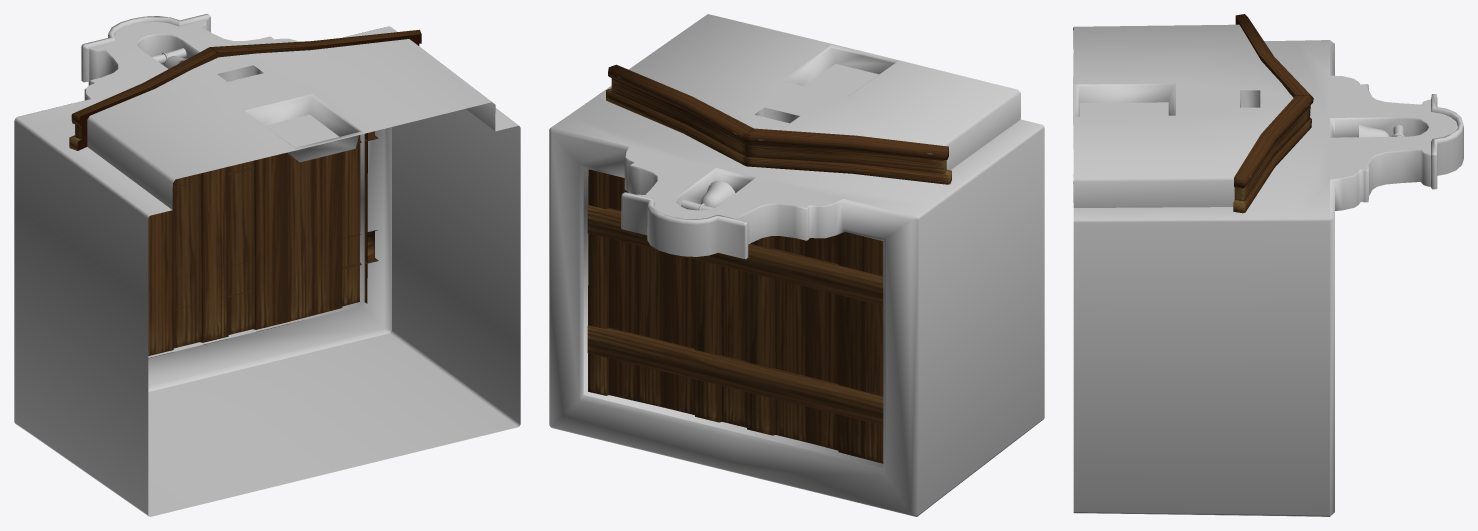
File: Bandito_building1.FBX
The picture shows the model from 3 angles, left to right: view 1: azimuth 30°, elevation 25°; view 2: azimuth 150°, elevation 25°; view 3: azimuth 270°, elevation 25°; orthographic projection. The views are drawn at different scales.
Visible parts, largest first — view 1: Bandito_Building001, Bandito_Building_Roof; view 2: Bandito_Building001, Bandito_Building_Roof; view 3: Bandito_Building001, Bandito_Building_Roof.
Part boxes in pixels (bbox=[...]): Bandito_Building001: bbox=[14, 14, 520, 516]; Bandito_Building_Roof: bbox=[69, 29, 421, 358]; Bandito_Building001: bbox=[549, 14, 1044, 516]; Bandito_Building_Roof: bbox=[587, 64, 951, 463]; Bandito_Building001: bbox=[1073, 24, 1463, 516]; Bandito_Building_Roof: bbox=[1233, 14, 1313, 213].
Size of the model in its own units: 10.22 by 8.78 by 9.39.
